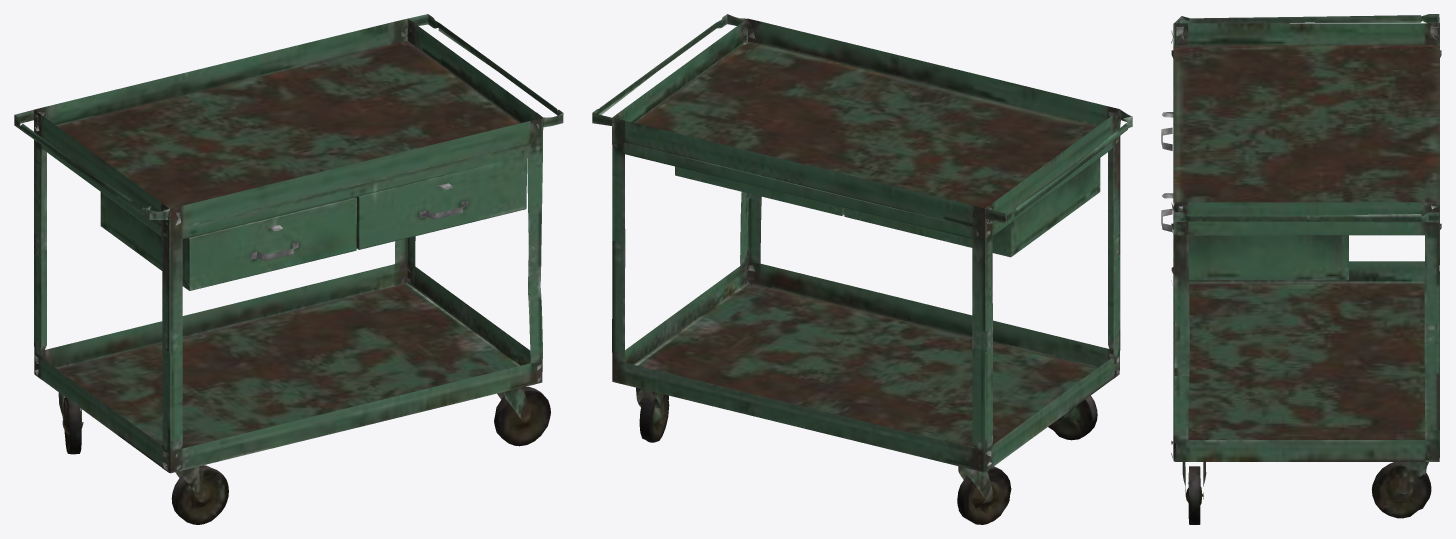
Rendered from tool_cart.glb.
3 renders of one model, left to right at view 1: azimuth 30°, elevation 25°; view 2: azimuth 150°, elevation 25°; view 3: azimuth 270°, elevation 25°, orthographic.
Visible parts, largest first — view 1: mesh; view 2: mesh; view 3: mesh.
Boxes of the visible parts, x1,y1,x2,y2 form: mesh: (14, 14, 563, 524); mesh: (592, 14, 1132, 524); mesh: (1161, 14, 1441, 524).
Size of the model in its own units: 1.27 by 0.96 by 0.7482.
1 material, 1 textured.
